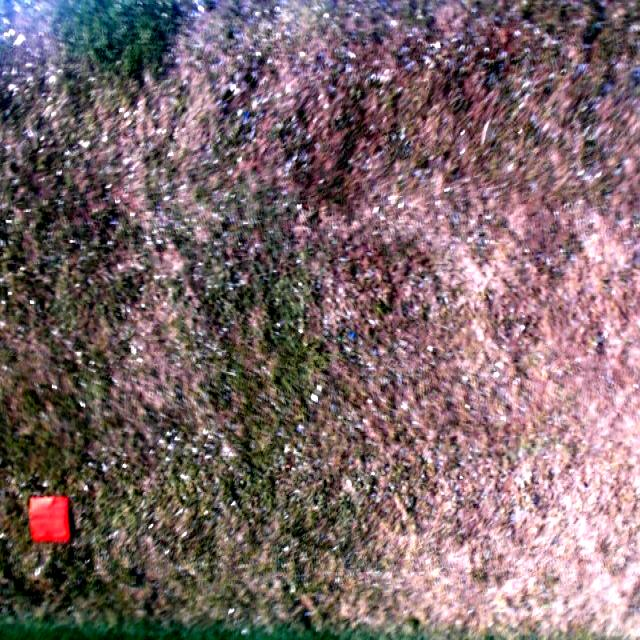red_square: (29, 494, 70, 543)
